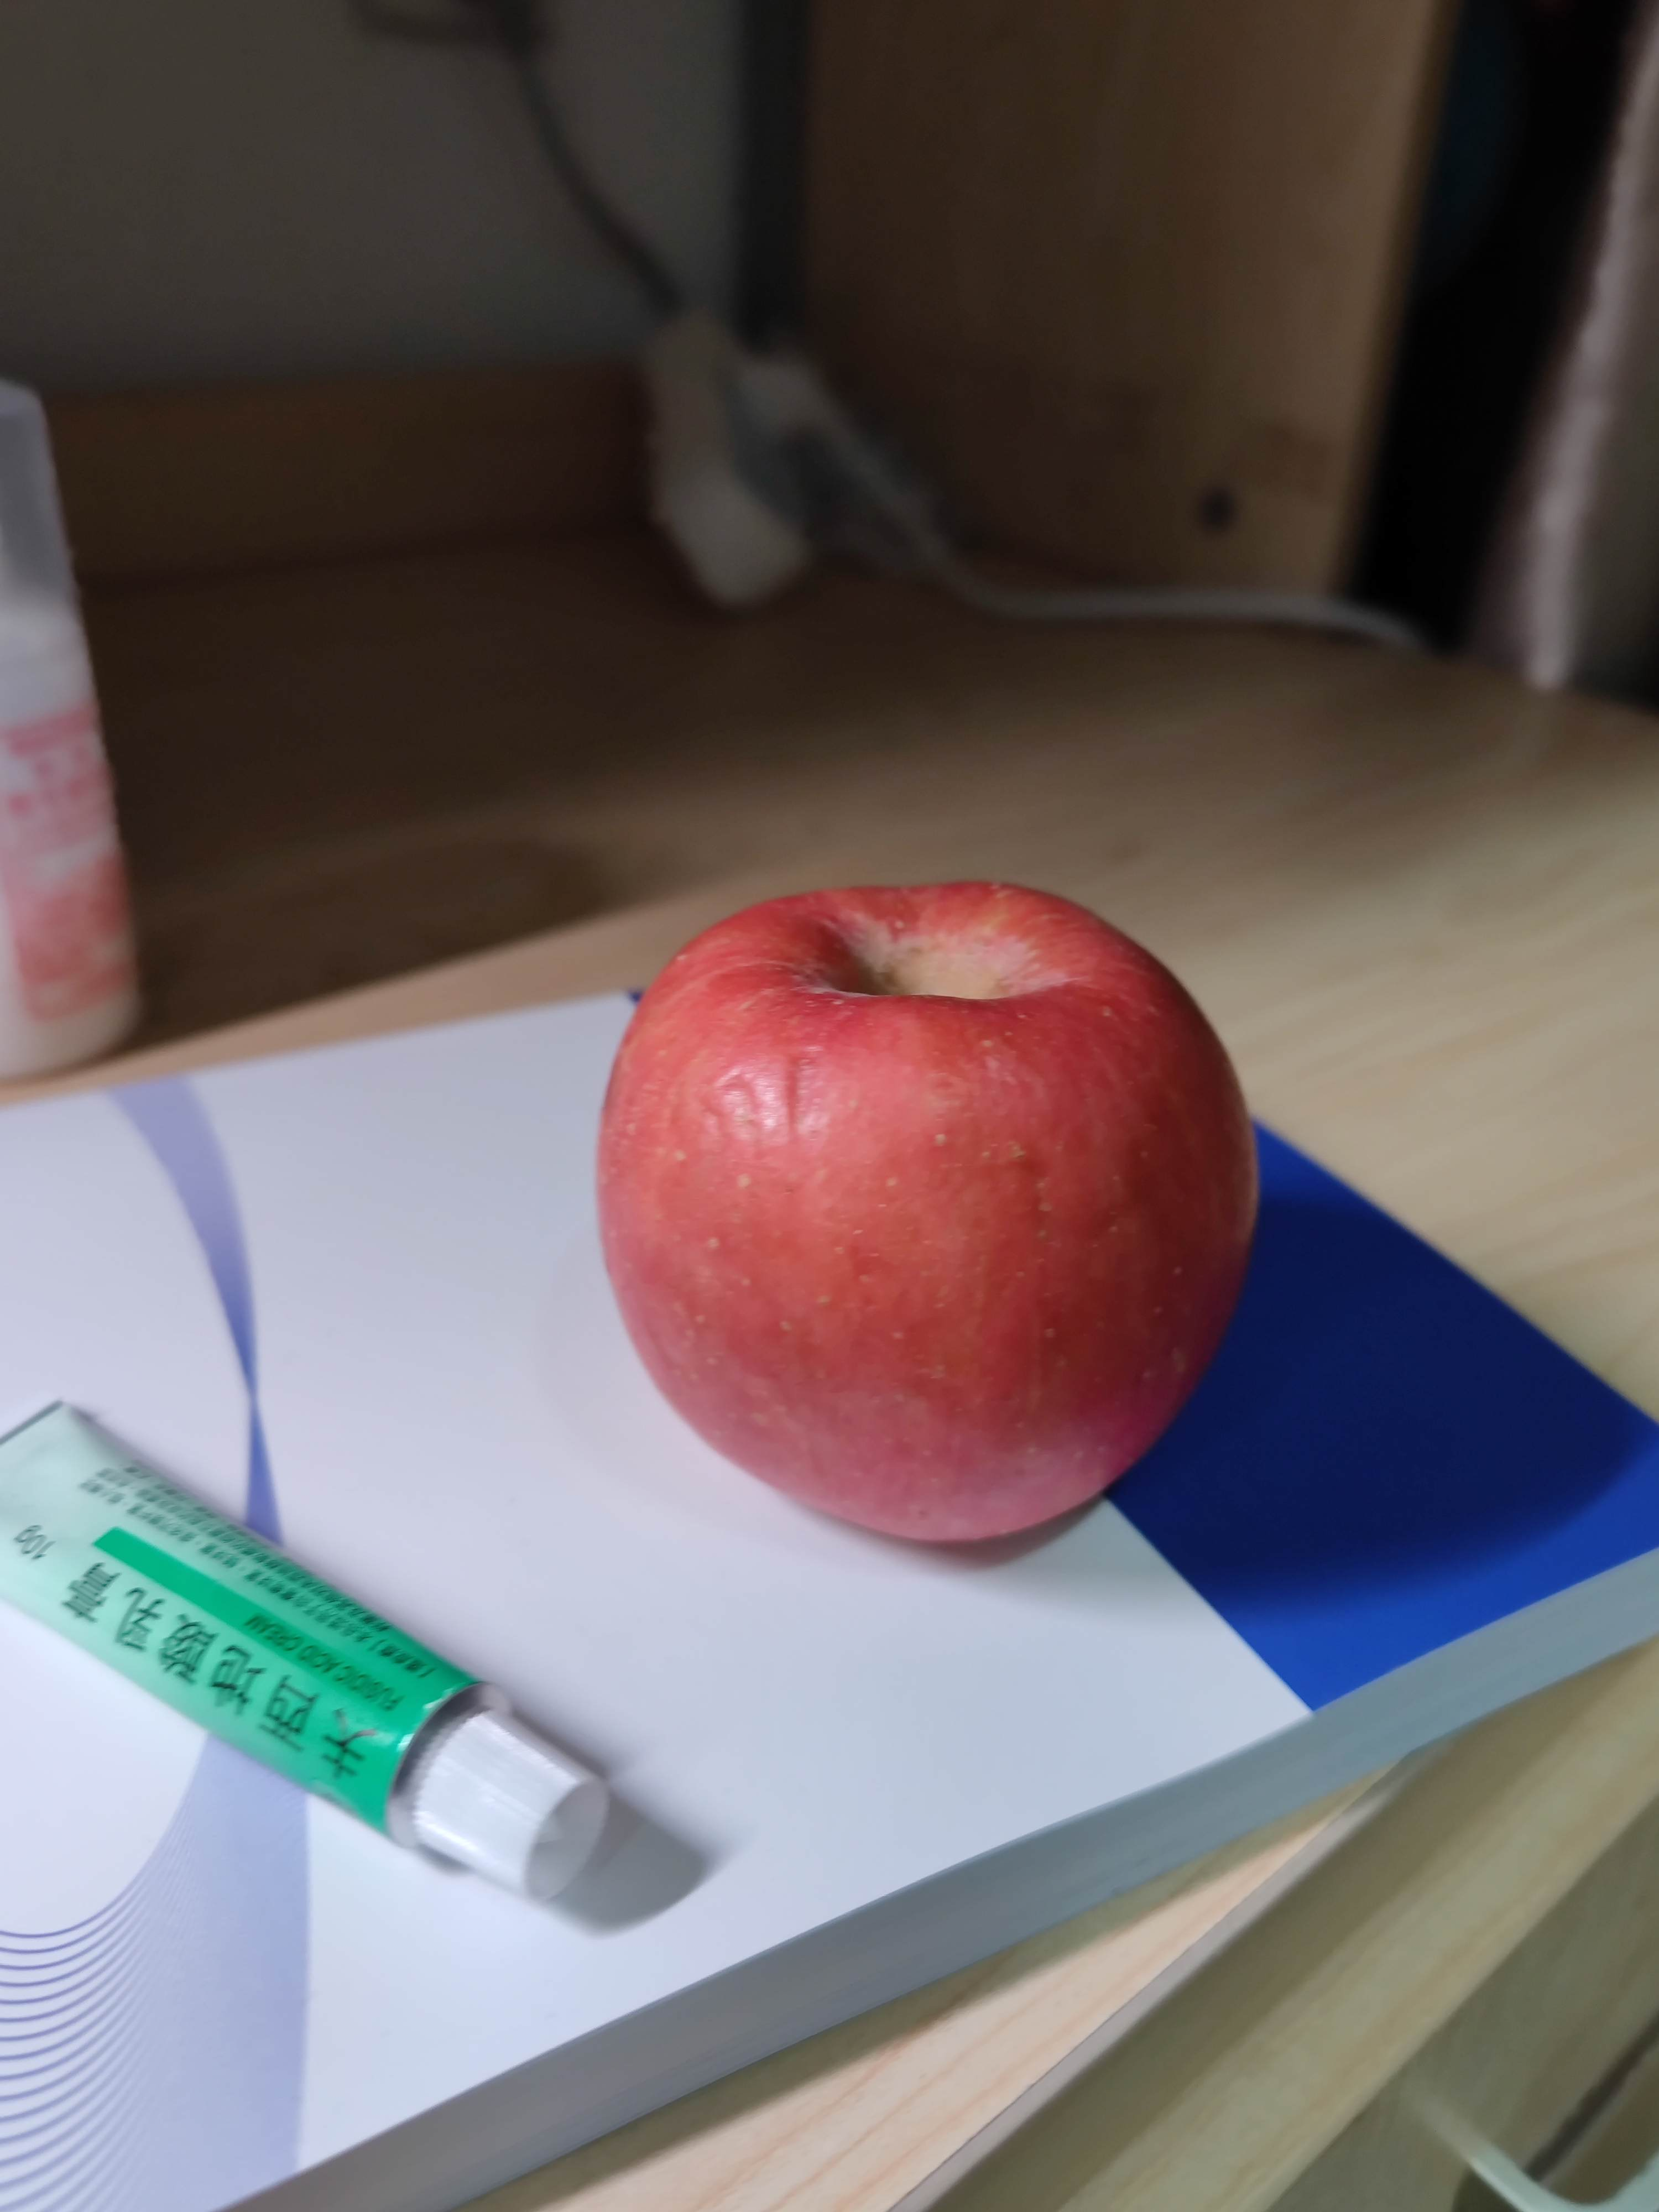apple: (589, 881, 1272, 1557)
